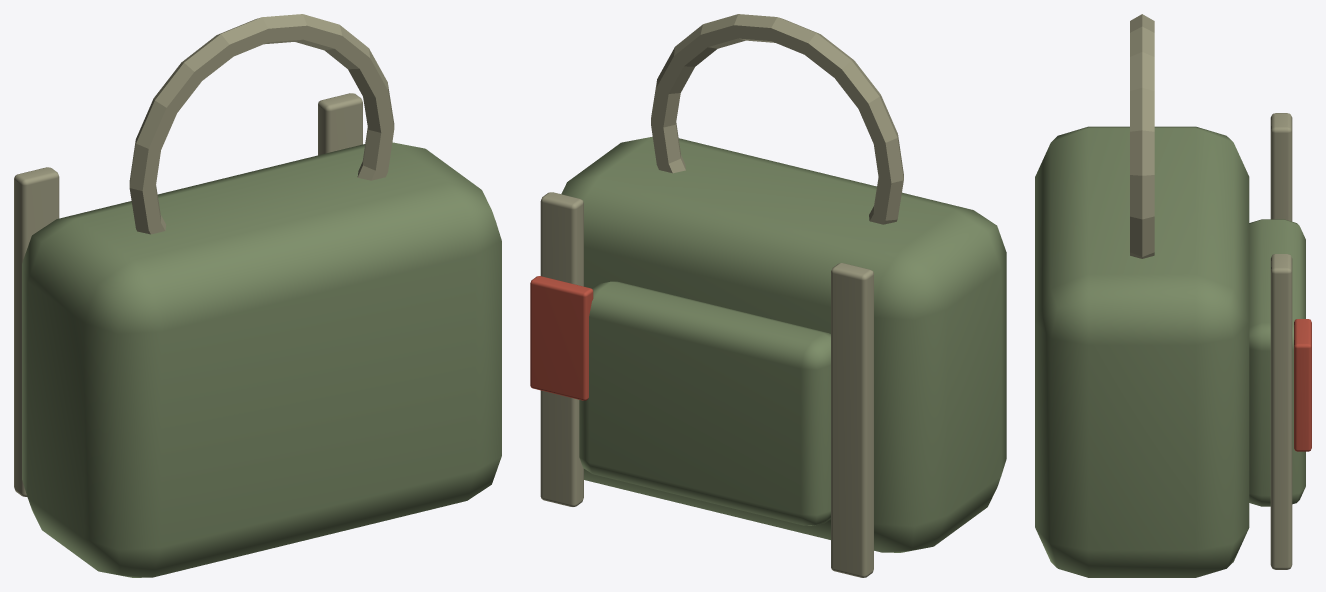
The model's file is SupplyBag.fbx.
The picture shows the model from 3 angles, left to right: view 1: azimuth 30°, elevation 25°; view 2: azimuth 150°, elevation 25°; view 3: azimuth 270°, elevation 25°; orthographic projection. The views are drawn at different scales.
Visible parts, largest first — view 1: CanvasBag, BagHandle, CanvasStrap, CanvasStrap.001; view 2: CanvasBag, FrontPocket, CanvasStrap, BagHandle, CanvasStrap.001, BagRedTag; view 3: CanvasBag, FrontPocket, CanvasStrap.001, BagHandle, CanvasStrap, BagRedTag.
Part boxes in pixels (<box>): CanvasBag: <box>22,142,501,577</box>; BagHandle: <box>129,14,394,234</box>; CanvasStrap: <box>14,167,59,496</box>; CanvasStrap.001: <box>318,93,362,155</box>; CanvasBag: <box>561,136,1006,552</box>; FrontPocket: <box>579,281,830,525</box>; CanvasStrap: <box>831,263,873,577</box>; BagHandle: <box>651,14,903,224</box>; CanvasStrap.001: <box>540,192,583,506</box>; BagRedTag: <box>530,276,593,400</box>; CanvasBag: <box>1035,126,1249,577</box>; FrontPocket: <box>1249,219,1305,506</box>; CanvasStrap.001: <box>1270,254,1292,569</box>; BagHandle: <box>1130,14,1154,258</box>; CanvasStrap: <box>1270,113,1292,221</box>; BagRedTag: <box>1294,319,1311,451</box>.
Bounding box in the file's own units: 38 × 44.2 × 23.25.
